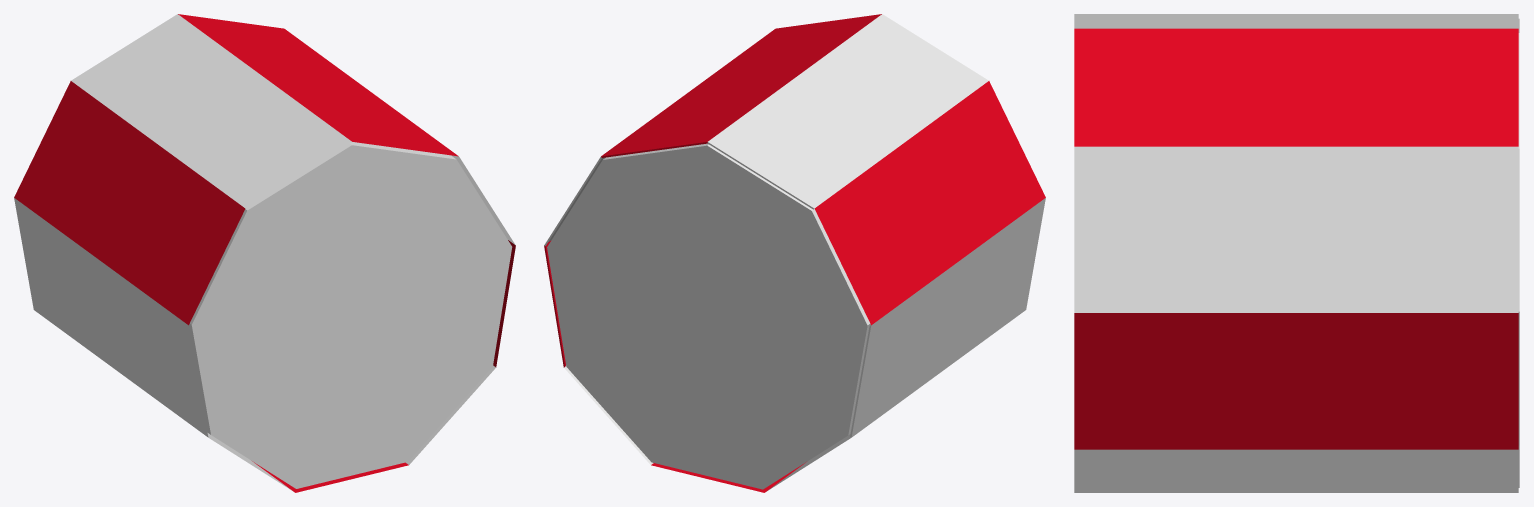
The model's file is Paille.fbx.
The picture shows the model from 3 angles, left to right: view 1: azimuth 30°, elevation 25°; view 2: azimuth 150°, elevation 25°; view 3: azimuth 270°, elevation 25°; orthographic projection. The views are drawn at different scales.
Parts seen in each view (by area): view 1: Cylinder.001, Cylinder; view 2: Cylinder.001, Cylinder; view 3: Cylinder.001, Cylinder.
Boxes of the visible parts, <box> form: Cylinder.001: <box>14,14,515,492</box>; Cylinder: <box>188,142,512,488</box>; Cylinder.001: <box>544,14,1045,492</box>; Cylinder: <box>547,143,870,489</box>; Cylinder.001: <box>1074,14,1518,492</box>; Cylinder: <box>1518,18,1519,487</box>.
Bounding box in the file's own units: 109 × 107 × 101.
